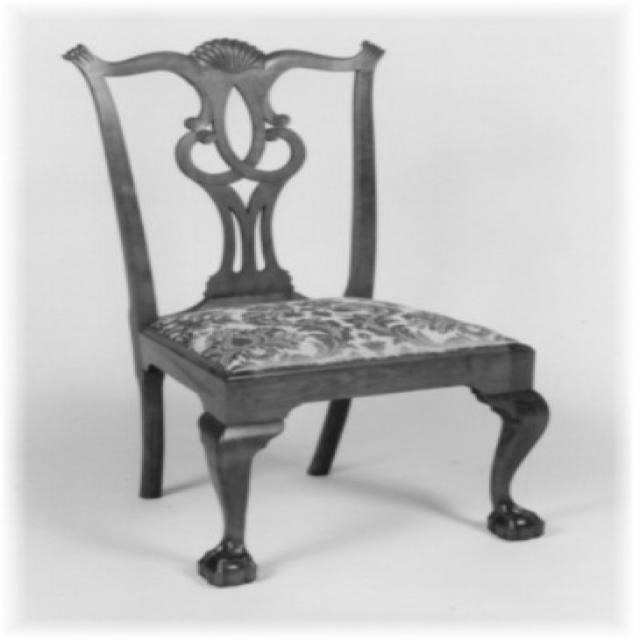chair: (62, 35, 554, 590)
